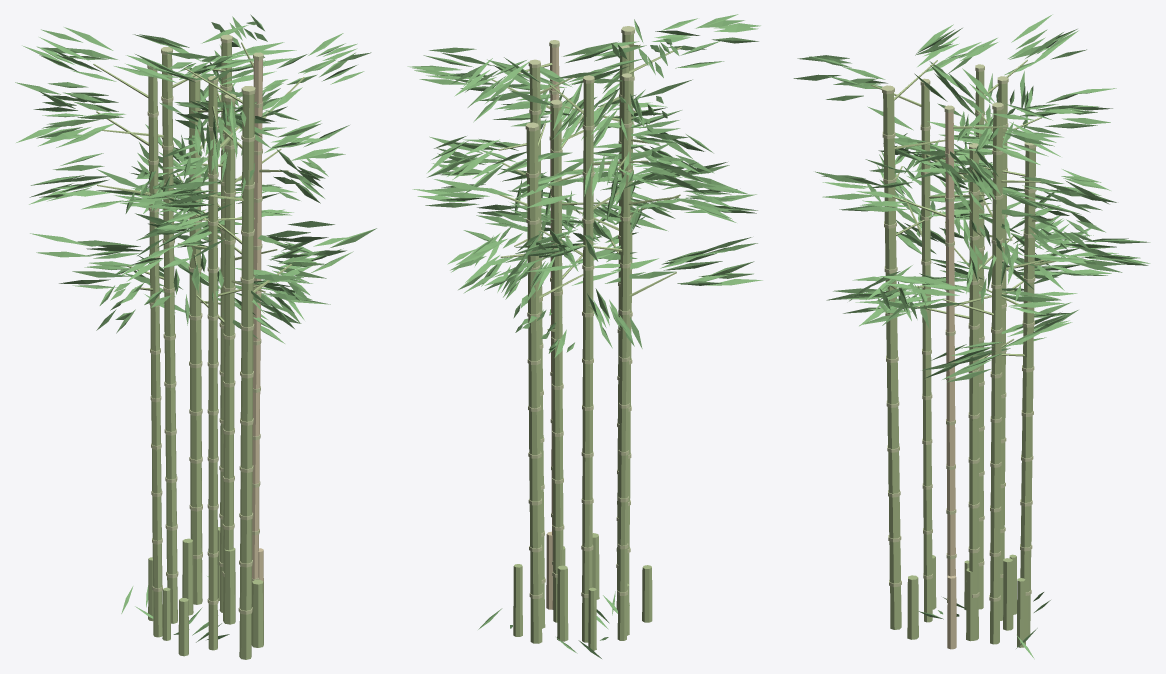
File: plant-bamboo-a.glb
The picture shows the model from 3 angles, left to right: view 1: azimuth 30°, elevation 25°; view 2: azimuth 150°, elevation 25°; view 3: azimuth 270°, elevation 25°; orthographic projection. The views are drawn at different scales.
Parts seen in each view (by area): view 1: plant-bamboo-a_full_bambooCulm, plant-bamboo-a_full_bambooLeaf, plant-bamboo-a_full_bambooNode, plant-bamboo-a_cut_bambooCulm, plant-bamboo-a_full_bambooDry; view 2: plant-bamboo-a_full_bambooLeaf, plant-bamboo-a_full_bambooCulm, plant-bamboo-a_cut_bambooCulm, plant-bamboo-a_full_bambooNode, plant-bamboo-a_full_bambooDry, plant-bamboo-a_cut_bambooDry; view 3: plant-bamboo-a_full_bambooLeaf, plant-bamboo-a_full_bambooCulm, plant-bamboo-a_full_bambooNode, plant-bamboo-a_full_bambooDry, plant-bamboo-a_cut_bambooCulm, plant-bamboo-a_cut_bambooDry.
Part boxes in pixels (x1,y1,x2,y2): plant-bamboo-a_full_bambooCulm: [93, 42, 304, 659]; plant-bamboo-a_full_bambooLeaf: [15, 14, 376, 343]; plant-bamboo-a_full_bambooNode: [147, 34, 263, 614]; plant-bamboo-a_cut_bambooCulm: [148, 527, 263, 656]; plant-bamboo-a_full_bambooDry: [252, 59, 262, 578]; plant-bamboo-a_full_bambooLeaf: [407, 14, 762, 357]; plant-bamboo-a_full_bambooCulm: [490, 33, 681, 643]; plant-bamboo-a_cut_bambooCulm: [513, 533, 652, 650]; plant-bamboo-a_full_bambooNode: [525, 26, 634, 598]; plant-bamboo-a_full_bambooDry: [550, 46, 559, 609]; plant-bamboo-a_cut_bambooDry: [546, 531, 552, 609]; plant-bamboo-a_full_bambooLeaf: [793, 14, 1150, 382]; plant-bamboo-a_full_bambooCulm: [871, 59, 1076, 644]; plant-bamboo-a_full_bambooNode: [882, 64, 1036, 602]; plant-bamboo-a_full_bambooDry: [945, 112, 955, 599]; plant-bamboo-a_cut_bambooCulm: [907, 554, 1025, 647]; plant-bamboo-a_cut_bambooDry: [947, 575, 956, 649].
Size of the model in its own units: 4.11 by 6.96 by 4.
